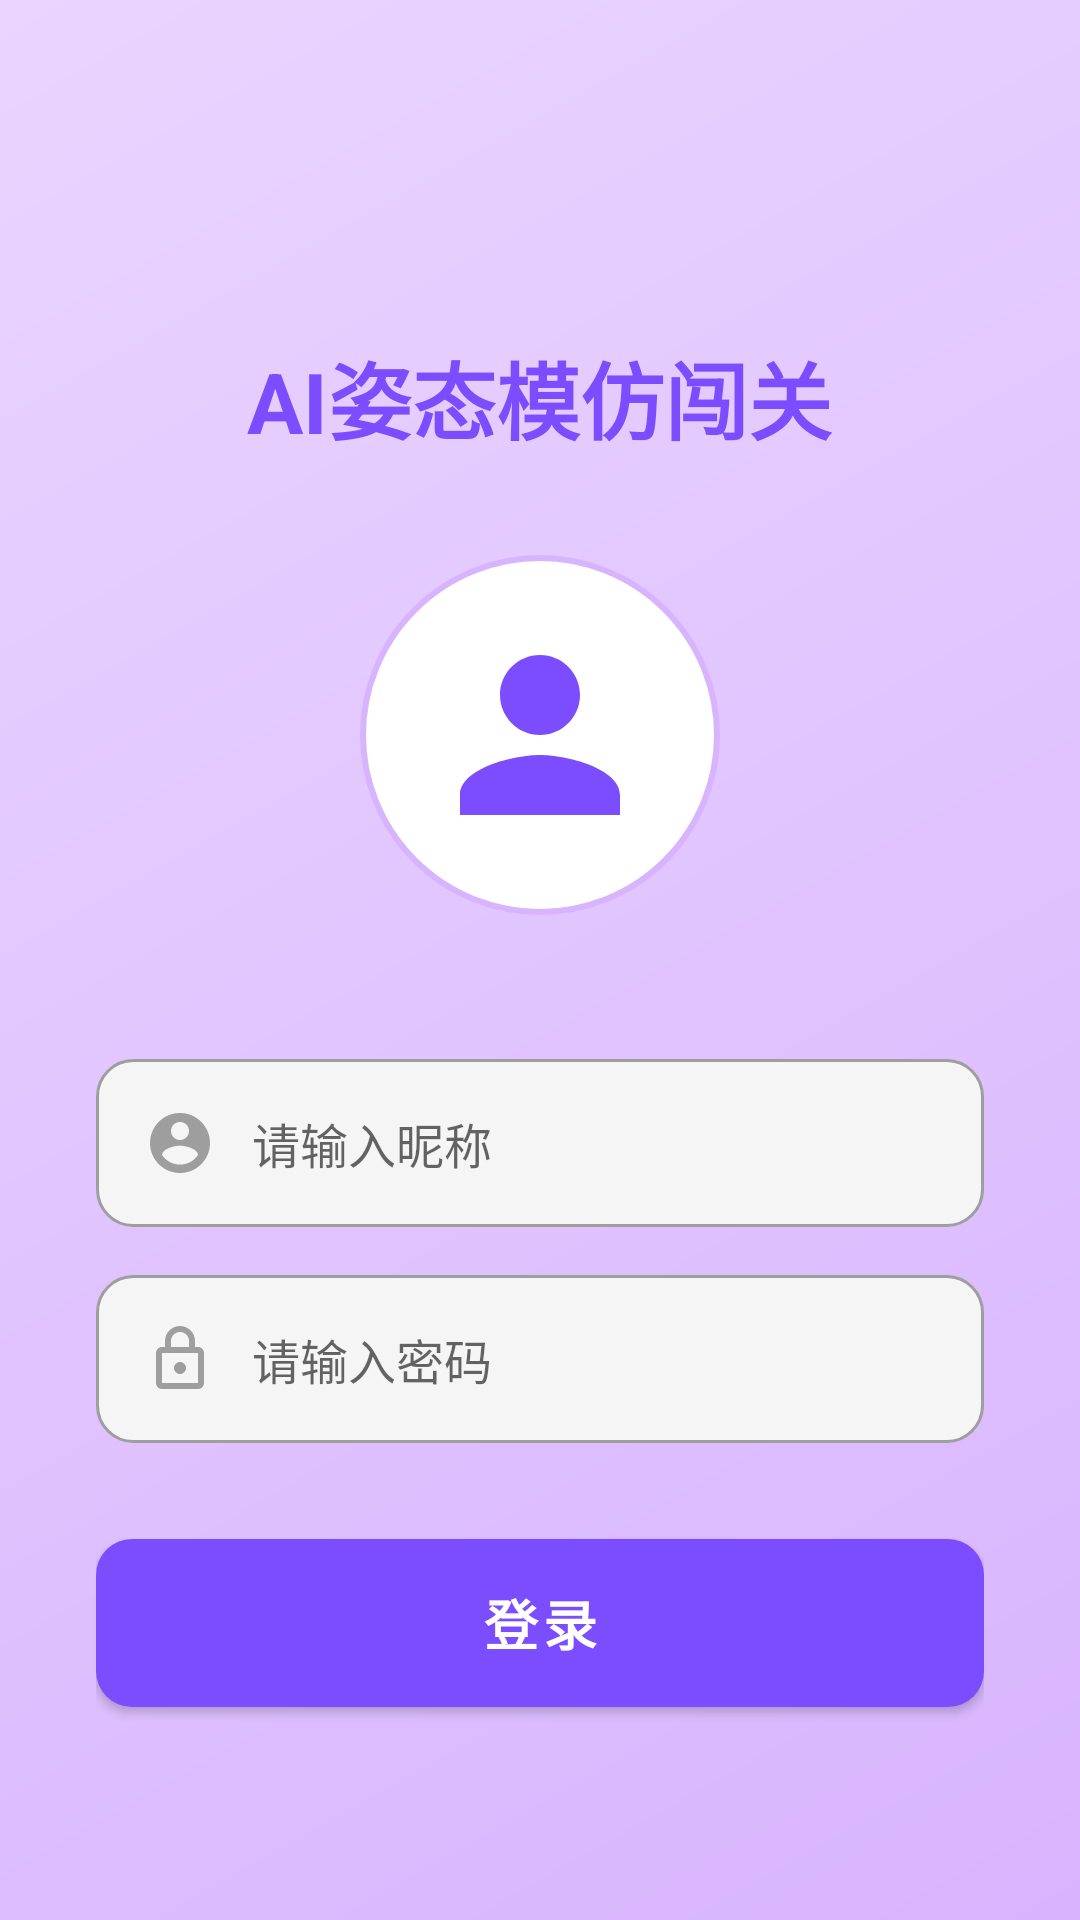

Icon click points for this 1080 x 1920 phone screenshot, format point (x, y):
user: point (540, 735)
